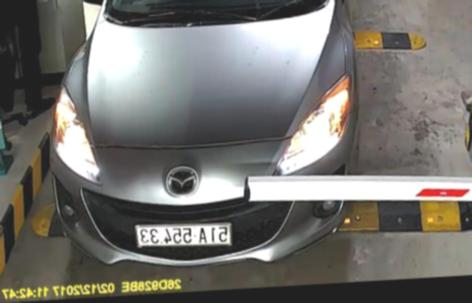License_Plate: (135, 217, 238, 251)
